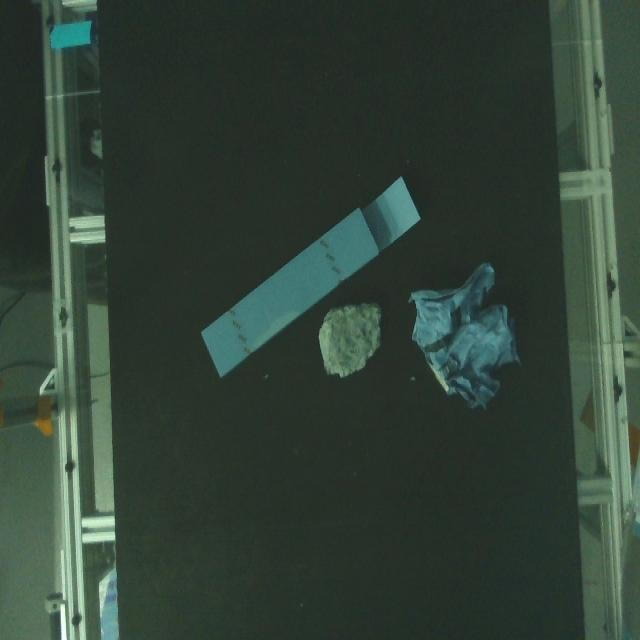non-paper: (312, 292, 389, 390)
paper: (196, 165, 427, 396), (411, 256, 533, 425)
